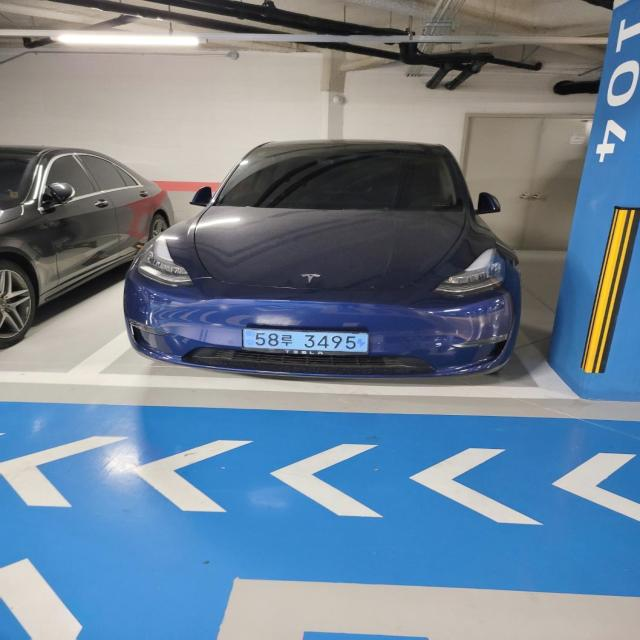EV_plate: (242, 321, 377, 359)
car: (116, 131, 535, 393)
